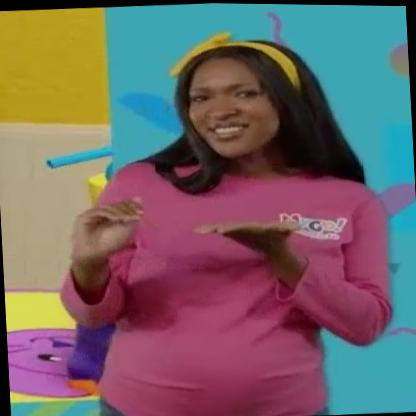ExcuseMe: (58, 166, 296, 283)
